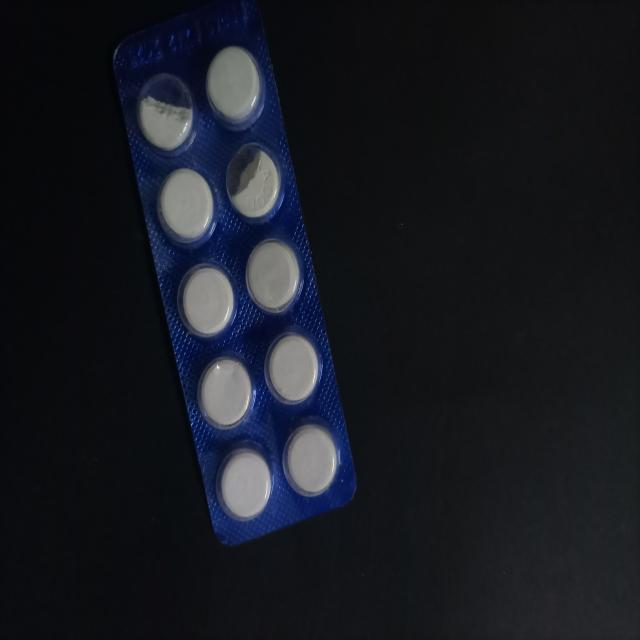defect: (132, 70, 202, 156), (223, 141, 287, 228)
